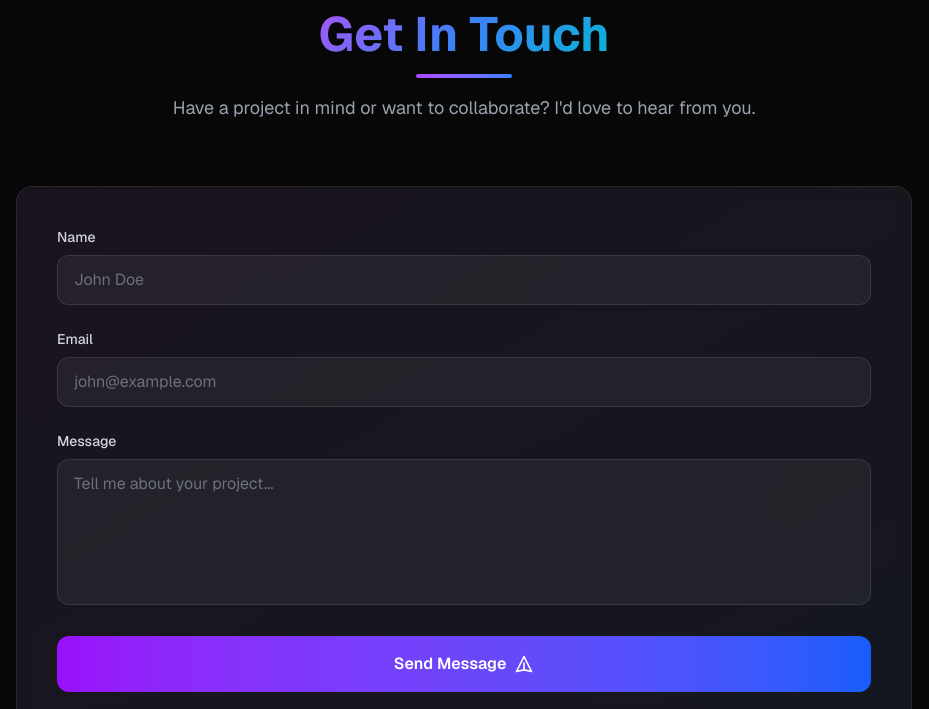
Test: Contact Form › shows validation errors on submit when fields are empty
Step 1. Click the button "Send Message" → (464, 664), box [57,636,871,692]
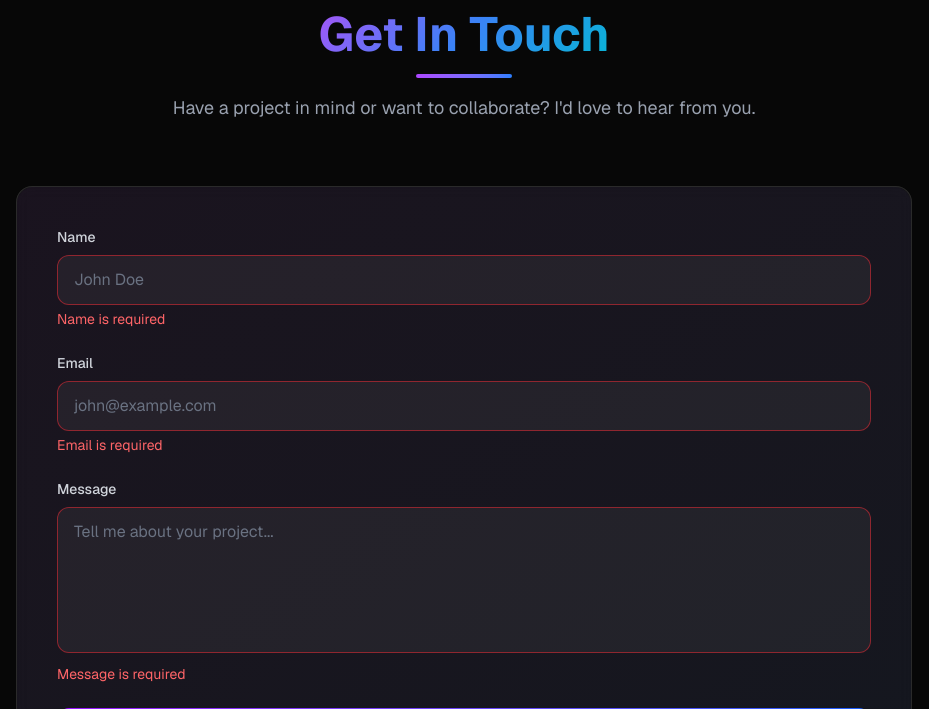
Expected: the text "Name is required" is shown, [57,310,165,328]
Expected: the text "Email is required" is shown, [57,436,163,454]
Expected: the text "Message is required" is shown, [57,665,186,683]
